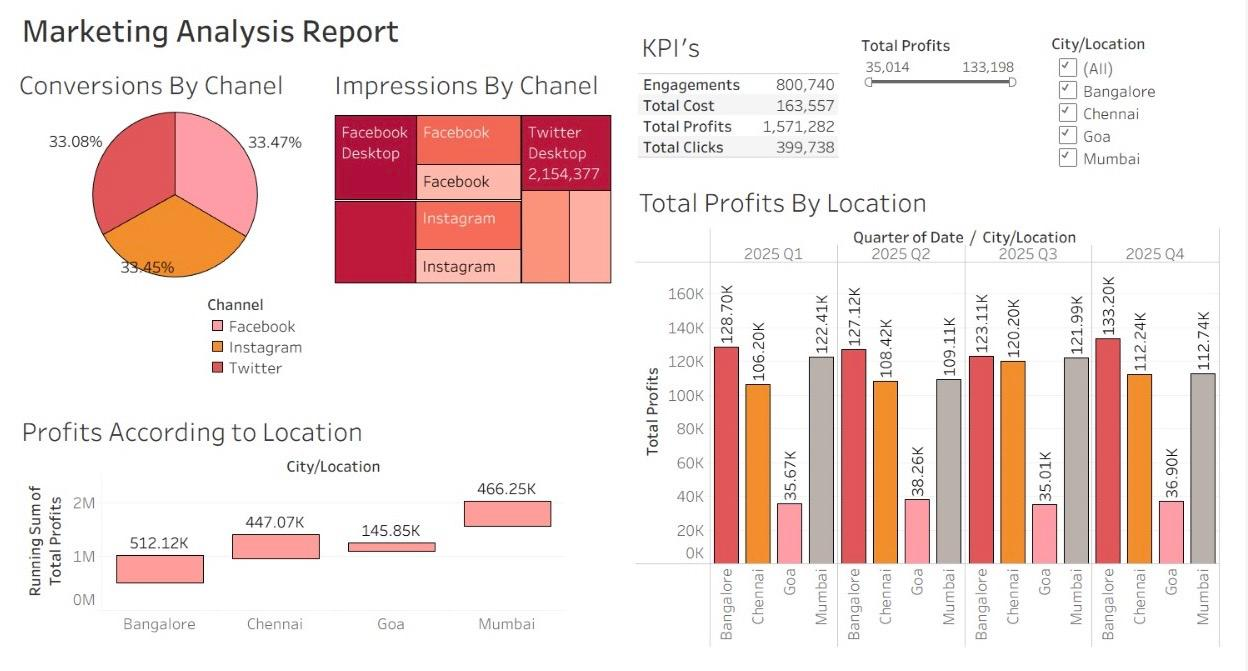

This screenshot's page, from the dashboard's own definition file:
{"tool":"tableau","page":{"name":"Marketing Analysis","canvas":[1000,1000],"units":"permille","ordinal":1},"visuals":[{"type":"title","box":[5.3,9.9,989.3,71.9]},{"type":"worksheet","title":"KPI's","mark":"Automatic","box":[514,39.6,170,209.4]},{"type":"filter","title":"Profits & Location","param":"[federated.0zsg3p21j0s4s41c4w2w20j54yd4].[none:City/Location:nk]","box":[844.7,49.6,106.7,204.5]},{"type":"filter","title":"Total Profits","param":"[federated.0zsg3p21j0s4s41c4w2w20j54yd4].[usr:Calculation_0555853814648833:qk]","box":[692.7,52,126.7,90.5]},{"type":"worksheet","title":"Conversions","mark":"Pie","box":[16,95.4,255.3,319.7]},{"type":"worksheet","title":"Impressions","mark":"Automatic","box":[268,95.4,240,333.3]},{"type":"worksheet","title":"Total Profits","mark":"Bar","rows":["Calculation_0555853814648833"],"cols":["Date","City/Location"],"box":[512,270.1,467.3,693.9]},{"type":"legend","title":"Conversions","param":"[federated.0zsg3p21j0s4s41c4w2w20j54yd4].[none:Channel:nk]","box":[169.3,437.4,93.3,125.2]},{"type":"worksheet","title":"Profits & Location","mark":"GanttBar","rows":["Calculation_0555853814648833"],"cols":["City/Location"],"box":[18,610.9,437.3,333.3]}]}

Visuals, with their boxes on the dashboard's canvas, which has no fixed pixel size, in thousandths of its width and height (x1, y1, x2, y2). These are canvas units, not pixel positions in the 1248x671 screenshot, which may show the page scaled, cropped or inside an application window:
title: 5,10,995,82
"KPI's" worksheet: 514,40,684,249
"Profits & Location" filter: 845,50,951,254
"Total Profits" filter: 693,52,819,142
"Conversions" worksheet (Pie marks): 16,95,271,415
"Impressions" worksheet: 268,95,508,429
"Total Profits" worksheet (Bar marks): 512,270,979,964
"Conversions" legend: 169,437,263,563
"Profits & Location" worksheet (GanttBar marks): 18,611,455,944
